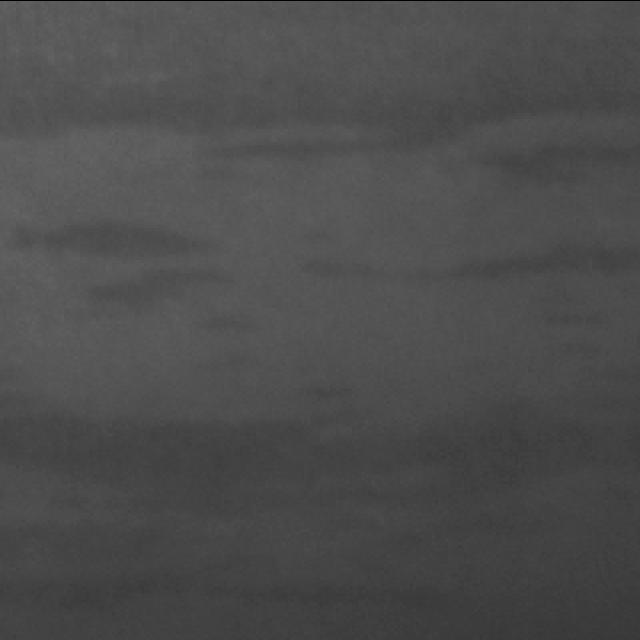inclusion: (0, 385, 471, 519), (301, 224, 640, 288), (5, 192, 228, 266)
